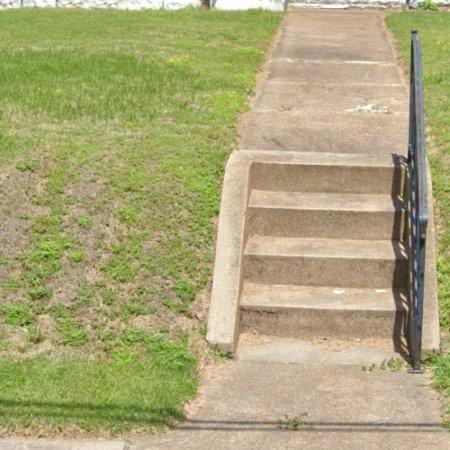stairs: (209, 152, 409, 347), (357, 324, 360, 330)
